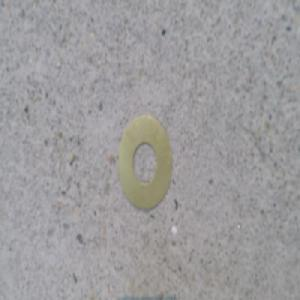Washer: (116, 104, 173, 204)
